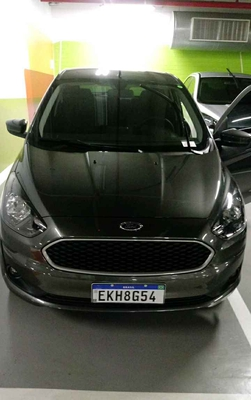Frontal Veiculo: (1, 78, 249, 315)
